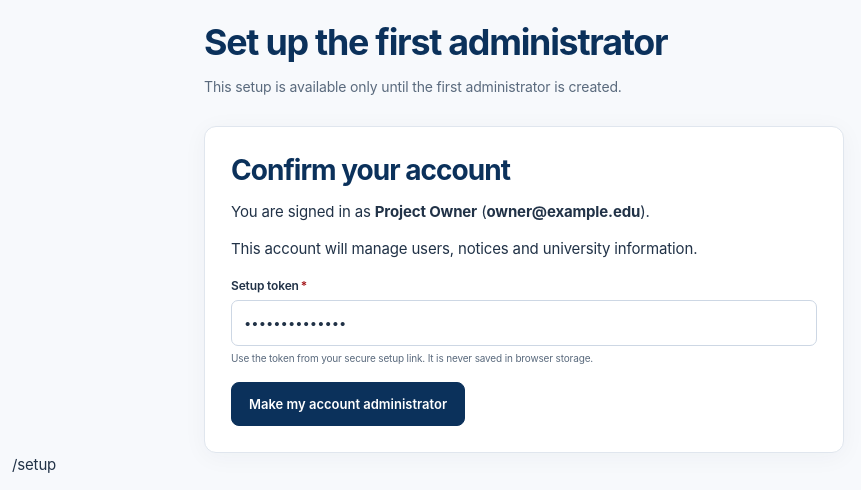
first administrator setup › promotes the displayed signed-in account only after an explicit click
Expected: the text "owner@example.edu" is shown, [486,202,640,221]
Expected: the text "Project Owner" is shown, [375,202,477,221]
Click the button "Make my account administrator" at (348,404), box [231,382,465,426]
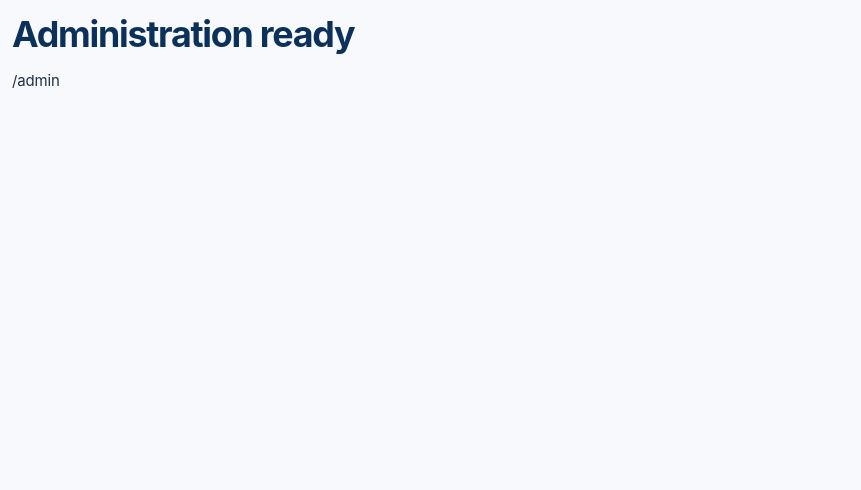
Expected: the heading "Administration ready" is shown, [12,12,354,56]
